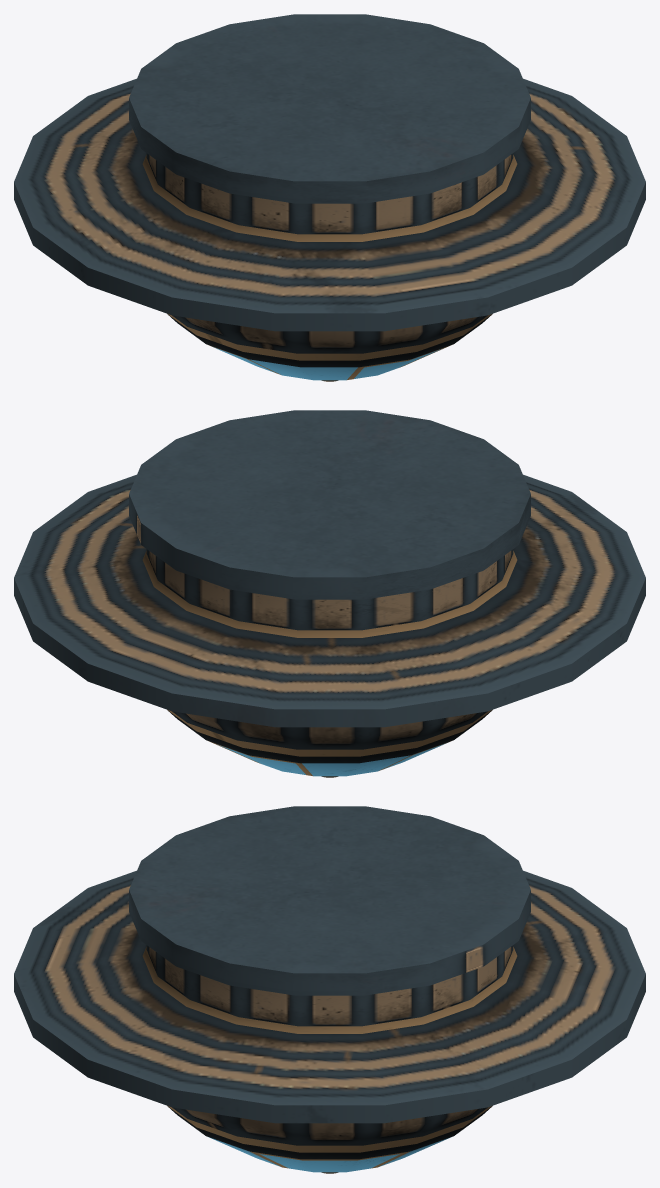
File: Ceiling Light 3.fbx
3 views of the same model, one above another, from view 1: azimuth 30°, elevation 25°; view 2: azimuth 150°, elevation 25°; view 3: azimuth 270°, elevation 25° (orthographic).
Parts seen in each view (by area): view 1: Cylinder; view 2: Cylinder; view 3: Cylinder.
Boxes of the visible parts, x1=… form: Cylinder: x1=14, y1=14, x2=645, y2=381; Cylinder: x1=14, y1=410, x2=645, y2=777; Cylinder: x1=14, y1=806, x2=645, y2=1173.
Bounding box in the file's own units: 80.59 × 39.76 × 81.84.
